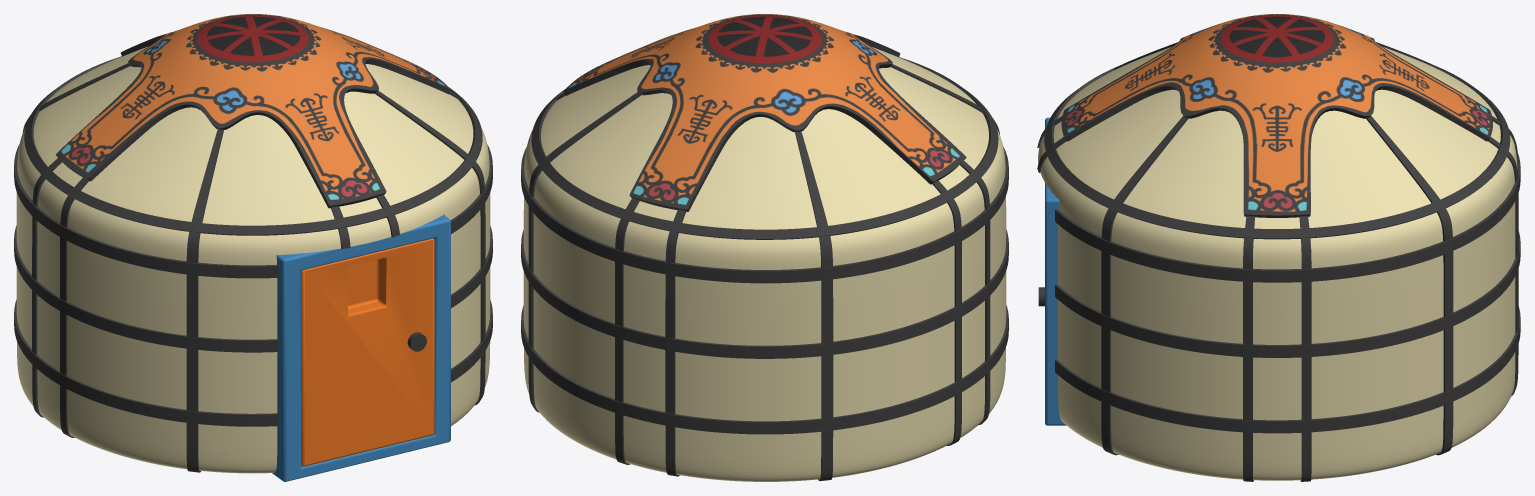
3 views of the same model, side by side, from view 1: azimuth 30°, elevation 25°; view 2: azimuth 150°, elevation 25°; view 3: azimuth 270°, elevation 25° (orthographic).
Parts seen in each view (by area): view 1: 柱体.007, 柱体.003, Slice, 柱体.006, 立方体.001, 柱体.005, 柱体.010, 柱体.008, 柱体.009; view 2: 柱体.007, 柱体.003, 柱体.006, 柱体.005, 柱体.010, 柱体.009, 柱体.008; view 3: 柱体.007, 柱体.003, 柱体.006, 柱体.005, 柱体.010, 柱体.008, 立方体.001, 柱体.009.
Boxes of the visible parts, <box> form: 柱体.007: <box>16,46,490,473</box>; 柱体.003: <box>55,14,450,208</box>; Slice: <box>301,238,434,466</box>; 柱体.006: <box>14,144,492,426</box>; 立方体.001: <box>272,215,450,481</box>; 柱体.005: <box>24,57,482,235</box>; 柱体.010: <box>22,63,485,472</box>; 柱体.008: <box>32,91,458,437</box>; 柱体.009: <box>119,56,399,248</box>; 柱体.007: <box>523,47,1006,481</box>; 柱体.003: <box>563,14,966,211</box>; 柱体.006: <box>521,147,1008,434</box>; 柱体.005: <box>531,58,998,239</box>; 柱体.010: <box>528,64,999,480</box>; 柱体.009: <box>615,57,902,476</box>; 柱体.008: <box>556,93,990,445</box>; 柱体.007: <box>1038,47,1517,480</box>; 柱体.003: <box>1061,14,1492,217</box>; 柱体.006: <box>1055,153,1520,433</box>; 柱体.005: <box>1044,65,1510,239</box>; 柱体.010: <box>1101,42,1453,455</box>; 柱体.008: <box>1243,216,1311,481</box>; 立方体.001: <box>1045,117,1066,425</box>; 柱体.009: <box>1037,116,1518,395</box>.
Size of the model in its own units: 1.81 by 1.45 by 1.8.
Materials: 5 (1 with a texture image).
